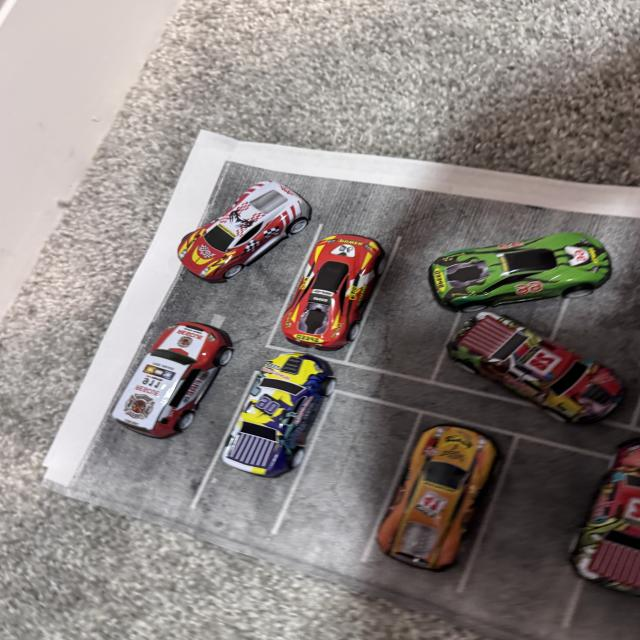car: (446, 304, 621, 458), (419, 227, 640, 337), (276, 228, 450, 338), (110, 325, 272, 437), (198, 365, 348, 471), (504, 482, 640, 582), (182, 175, 320, 268), (409, 402, 448, 592)
